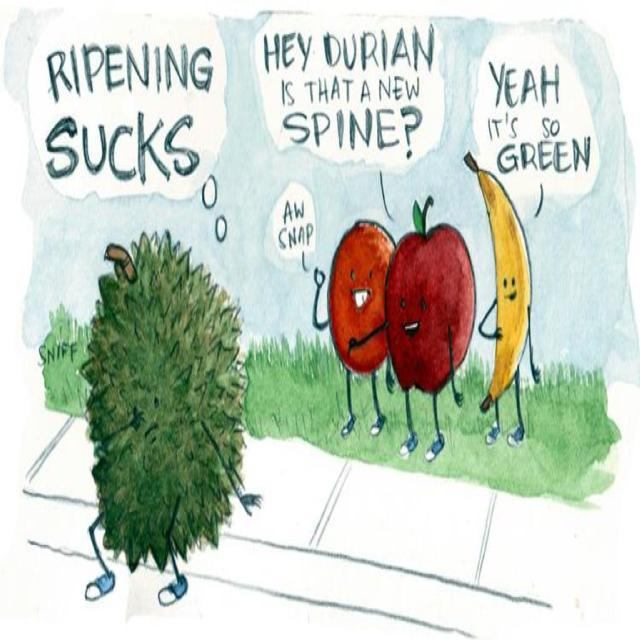Healty Apple: (388, 204, 482, 414)
